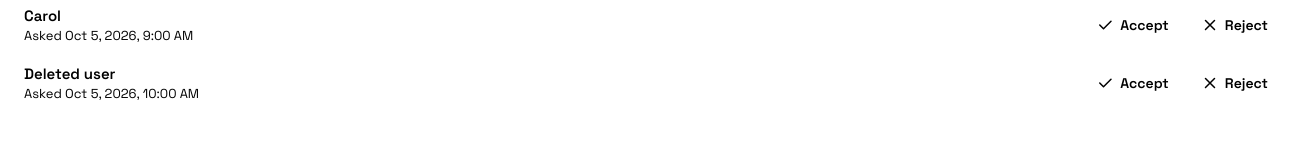
JoinRequests › shows a failed decision as an alert
Click the button with aria-label "Reject Carol": (1234, 25) [1189,16,1280,34]
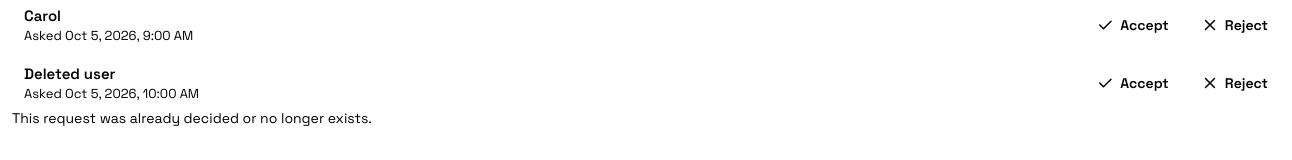
Result: the message reads "This request was already decided or no longer exists." at [12,109,372,127]
